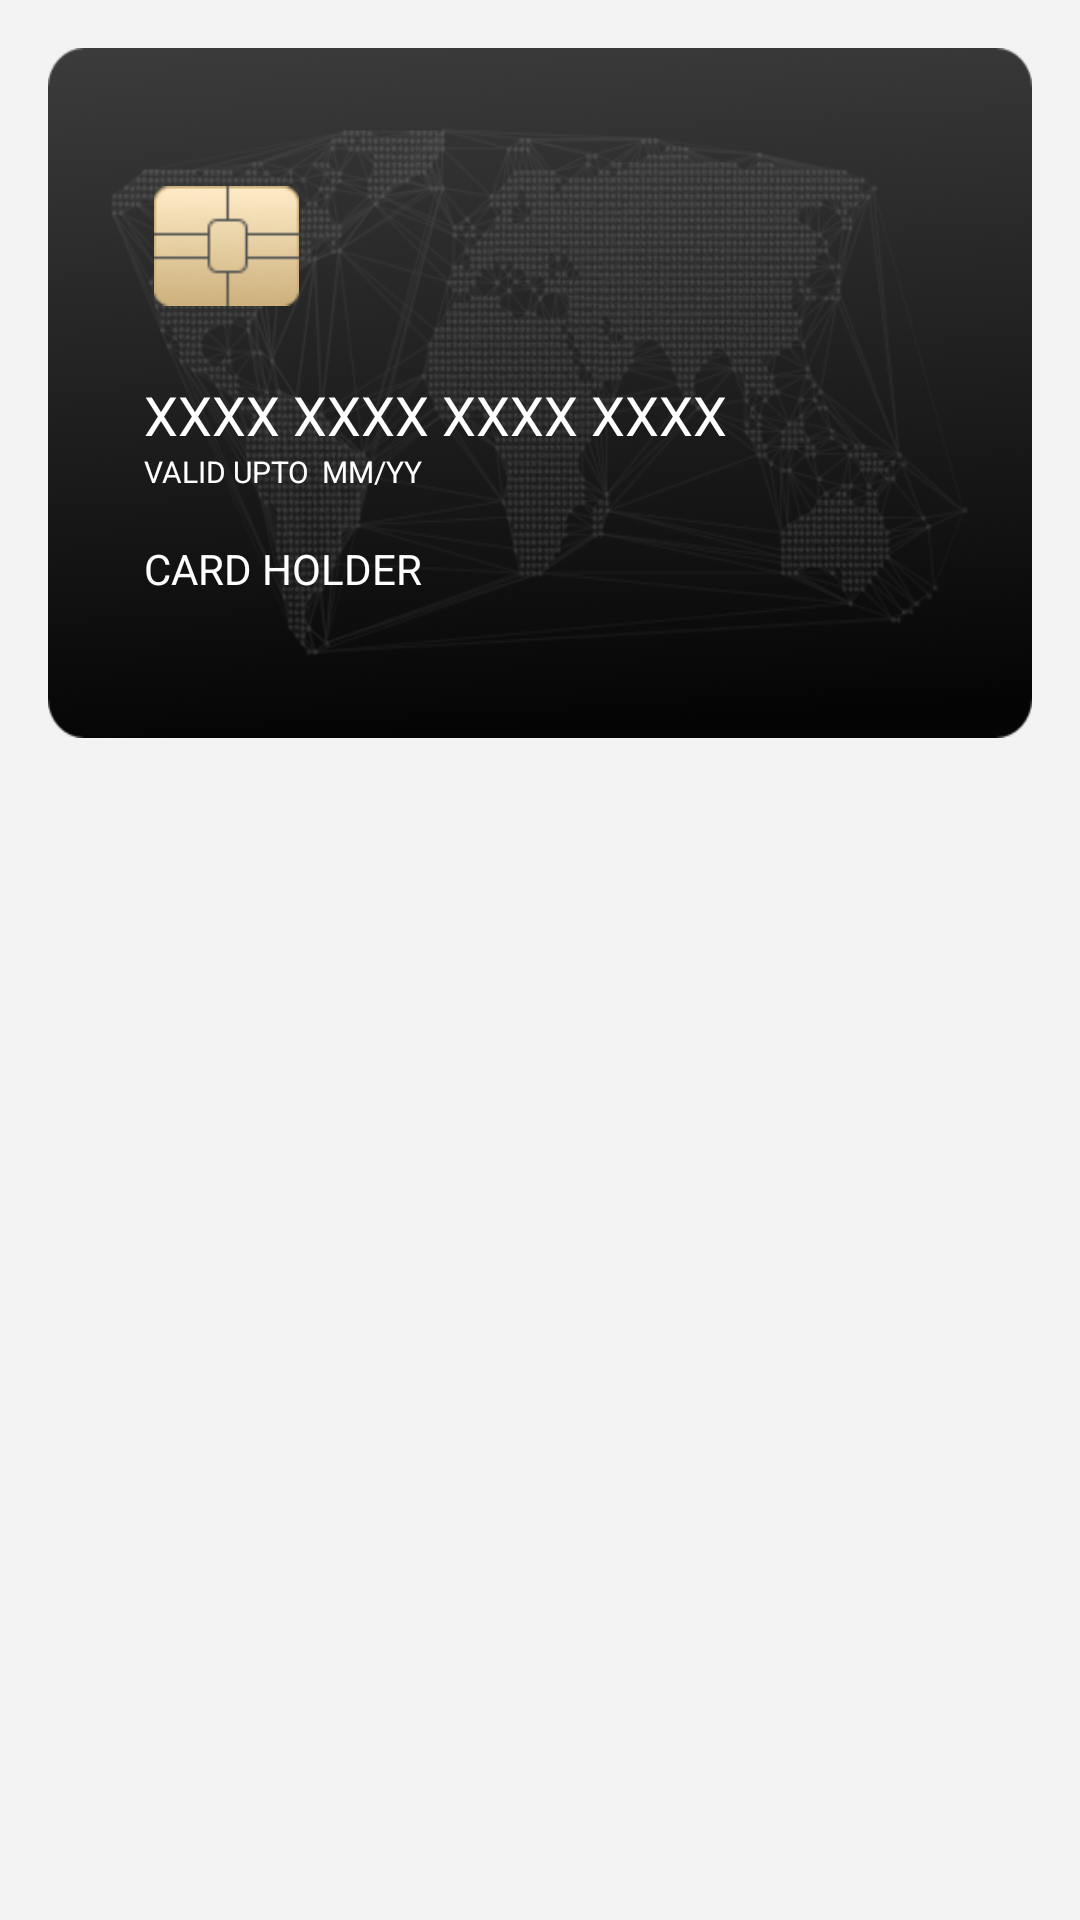

Named icons in this screenshot (1080×1920) and their bounding boxes, (x1, y1, x2, y2):
chip: (144, 186, 303, 306)
